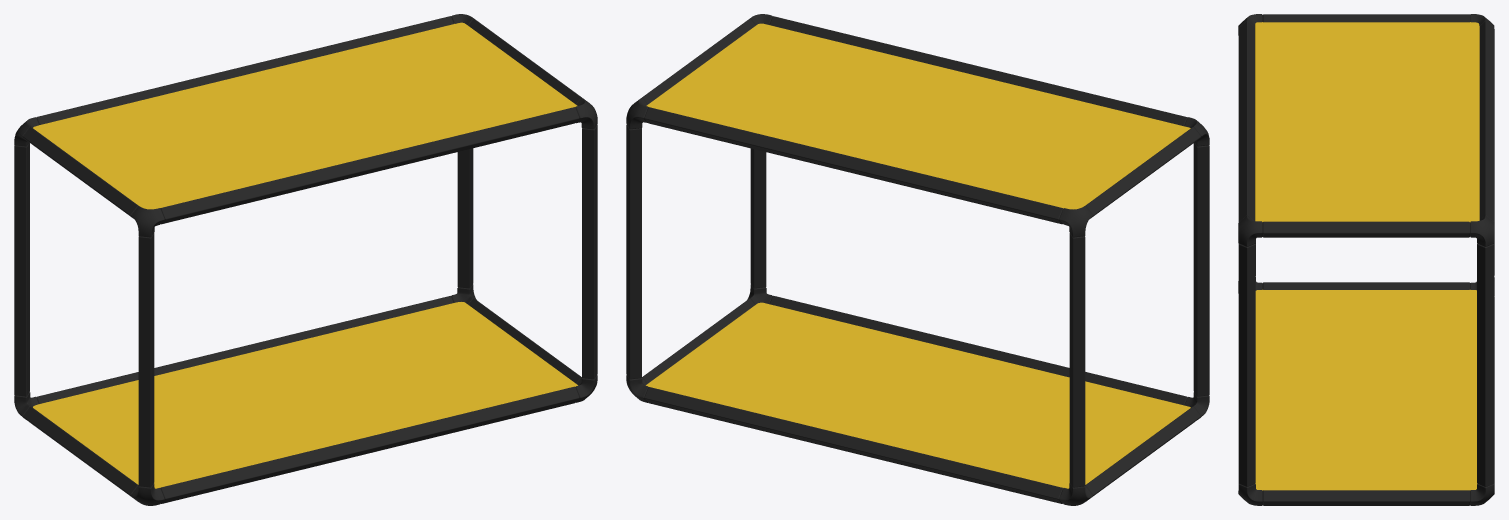
3 views of the same model, side by side, from view 1: azimuth 30°, elevation 25°; view 2: azimuth 150°, elevation 25°; view 3: azimuth 270°, elevation 25° (orthographic). The views are drawn at different scales.
Visible parts, largest first — view 1: 729x329x420; view 2: 729x329x420; view 3: 729x329x420.
Part boxes in pixels (x1=…): 729x329x420: x1=14, y1=14, x2=597, y2=505; 729x329x420: x1=626, y1=14, x2=1209, y2=505; 729x329x420: x1=1238, y1=14, x2=1494, y2=505.
Bounding box in the file's own units: 0.8067 × 0.4977 × 0.4063.
